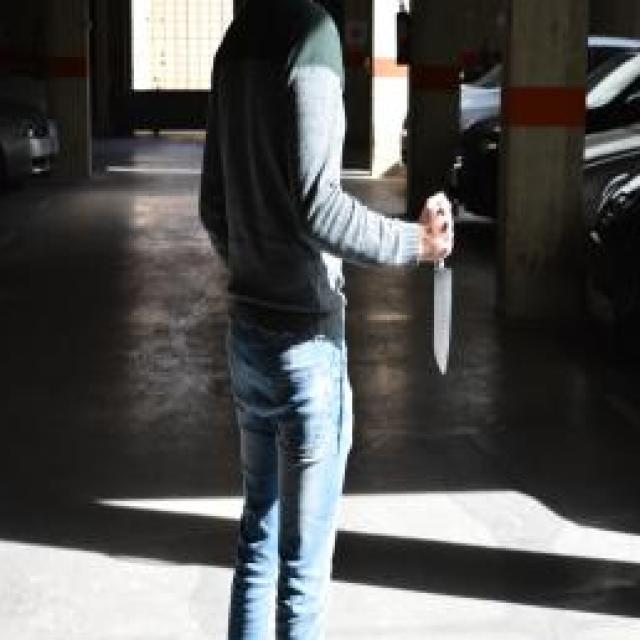knife: (429, 246, 457, 382)
